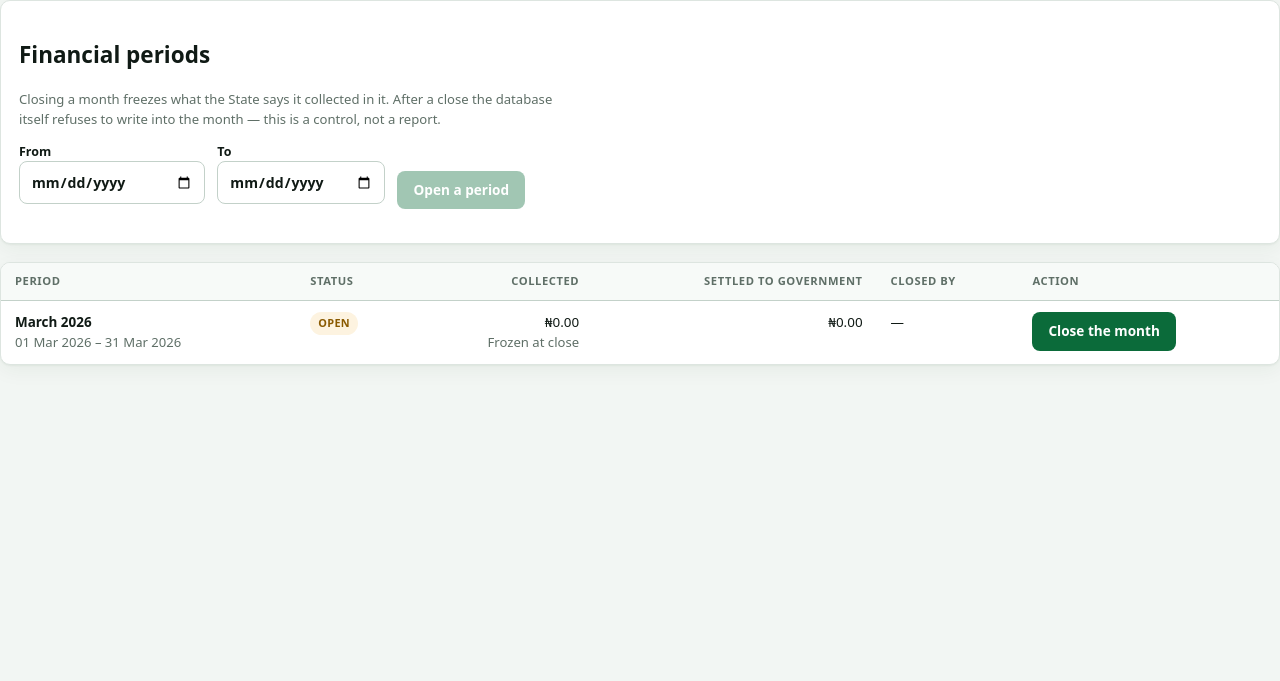
closing a month you cannot see › says the figures could not be read, rather than showing a settled month
Click the button "Close the month".
click(1104, 331)  # box [1032, 312, 1176, 351]
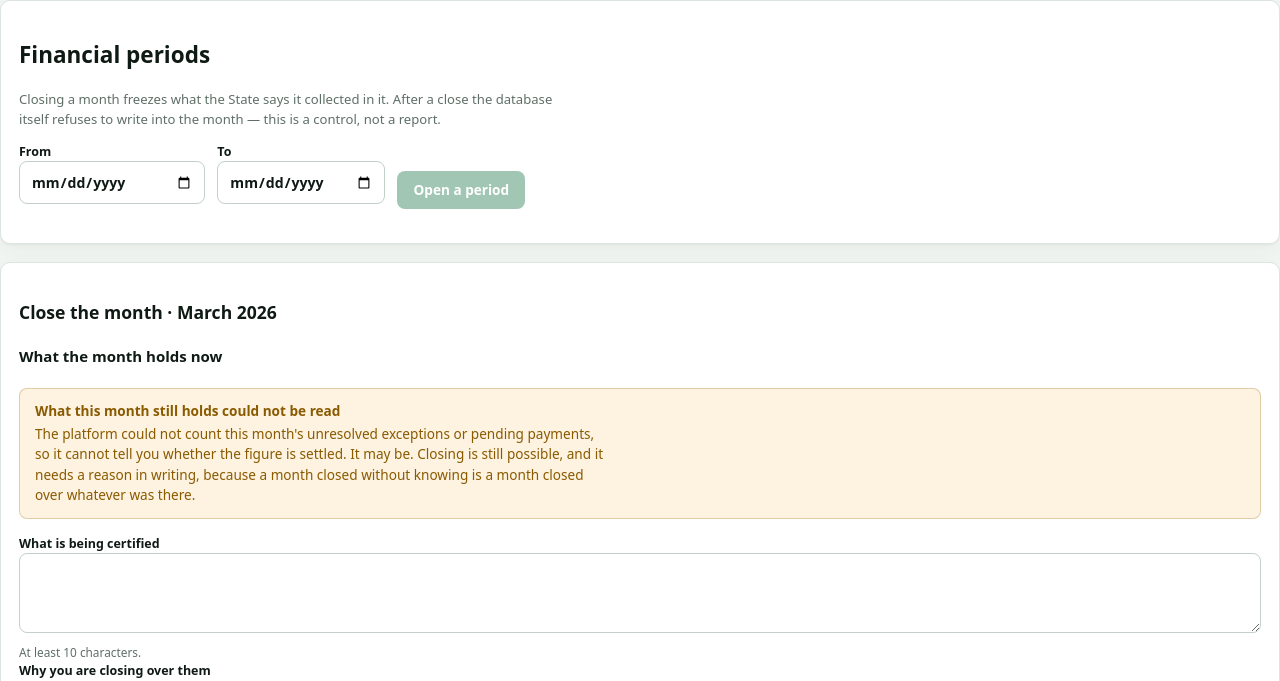
Check: the text "What this month still holds could not be read" is shown, box [35, 401, 340, 420]
